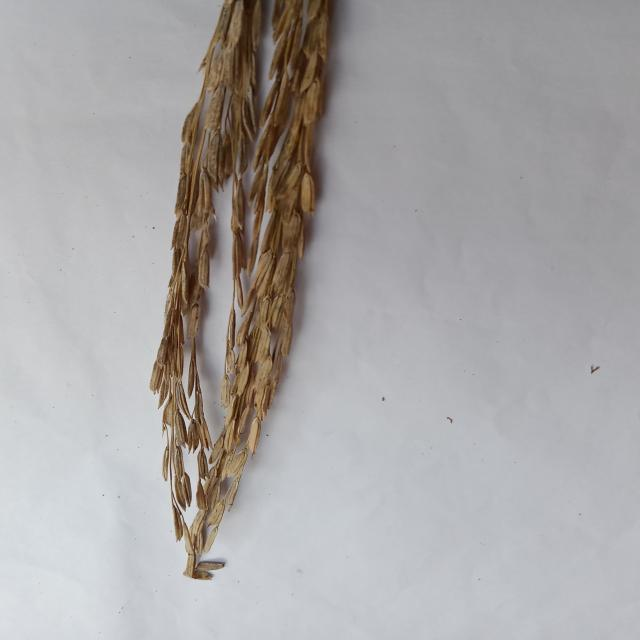Neck_Blast: (199, 0, 332, 581), (158, 0, 263, 561)
